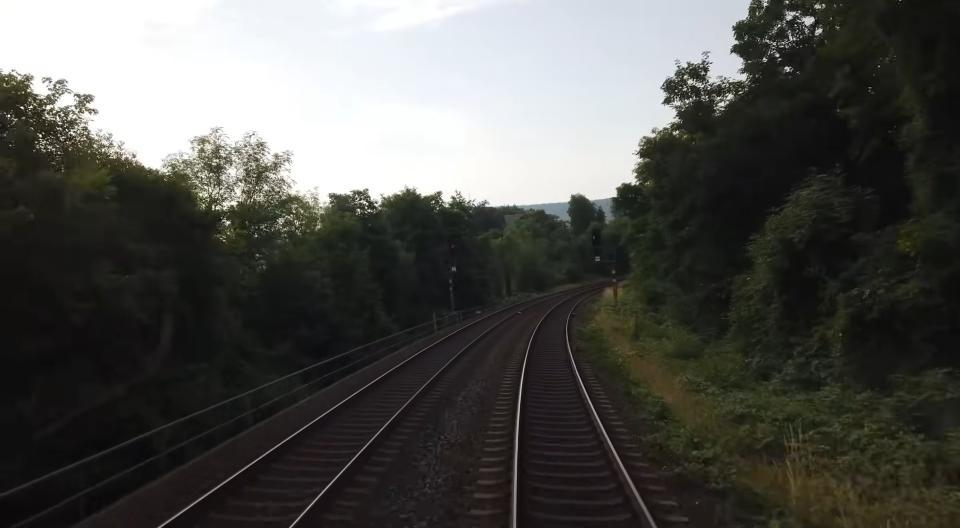Plant: (582, 278, 960, 528)
